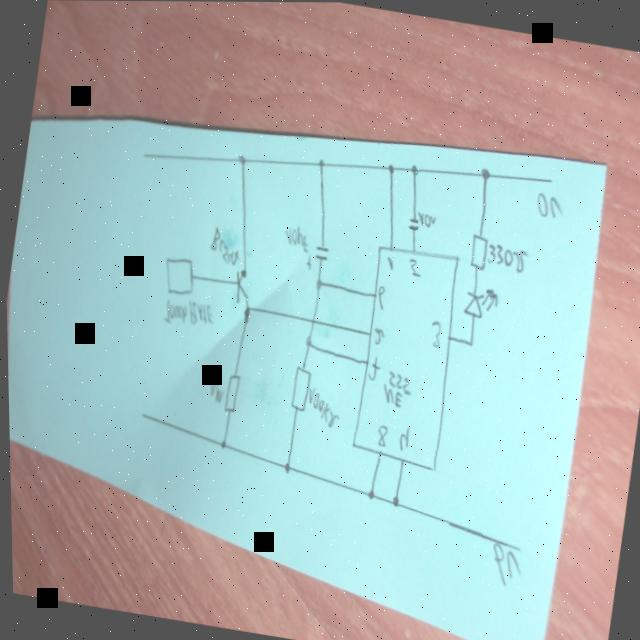capacitor: (302, 241, 329, 273), (404, 216, 419, 232)
crossover: (305, 315, 315, 326)
diode: (458, 282, 498, 320)
junction: (238, 305, 252, 324), (477, 166, 491, 181), (310, 277, 322, 291), (234, 152, 246, 165), (407, 162, 418, 174), (387, 494, 397, 507), (301, 334, 311, 347), (385, 161, 394, 174), (279, 461, 288, 474), (363, 488, 372, 499), (316, 157, 323, 168), (464, 339, 472, 348), (216, 440, 223, 449)
resistor: (285, 363, 311, 413), (464, 232, 489, 271), (218, 371, 239, 415)
terminal: (157, 253, 196, 298), (135, 410, 146, 421), (139, 150, 149, 161), (544, 175, 553, 184), (511, 543, 519, 553)
text: (159, 294, 214, 330), (482, 541, 522, 588), (300, 385, 341, 428), (483, 241, 527, 274), (377, 370, 413, 410), (205, 225, 241, 265), (279, 223, 311, 253), (531, 191, 564, 220), (203, 375, 223, 403), (425, 318, 441, 349), (364, 354, 380, 382), (413, 209, 435, 229), (394, 425, 408, 452), (372, 423, 387, 447), (372, 284, 386, 309), (404, 257, 421, 277), (368, 325, 383, 345), (383, 253, 393, 270)
transistor: (229, 267, 251, 305)
